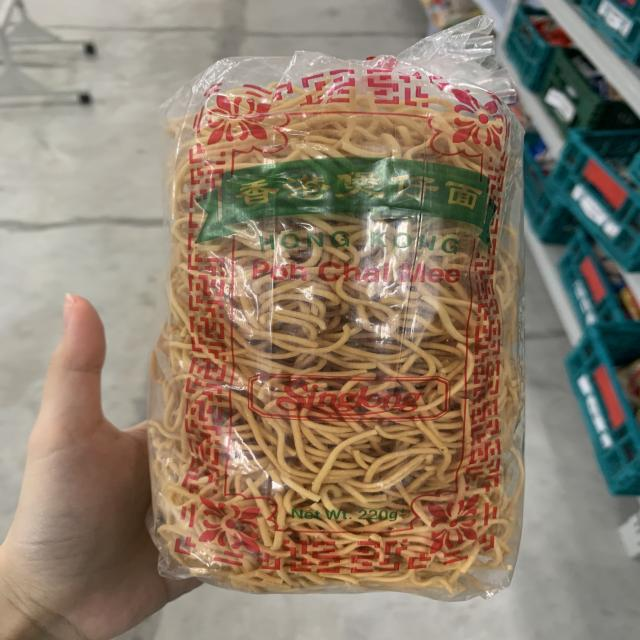object_name: (184, 78, 500, 582)
